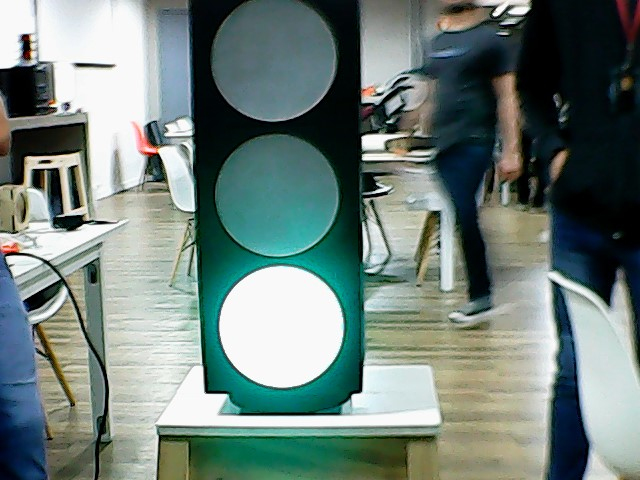verde: (186, 1, 366, 394)
